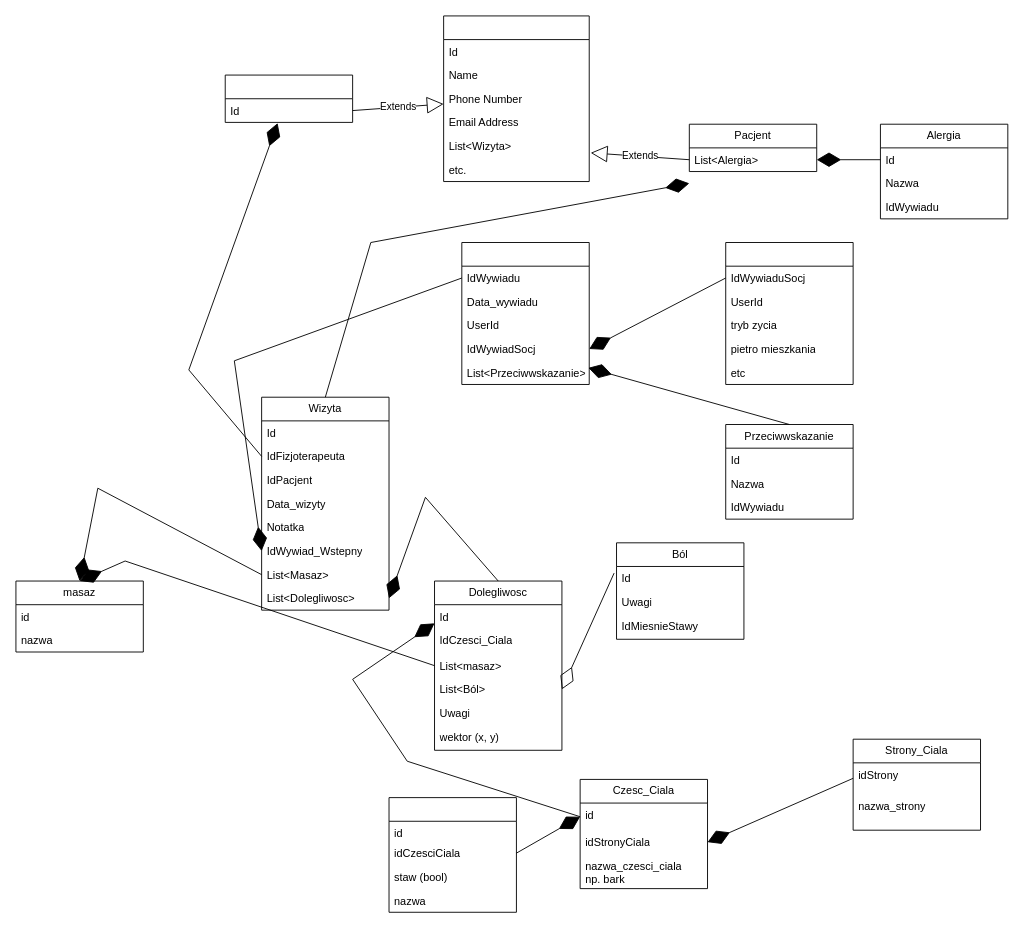
Image size: 1024x931. Some labels were removed from this diagram. The shapes that lost their labels are listed below. From the top down, each one's box as (x1, y1, x2, y2) in pixels, then its label:
(224, 74, 353, 122): fizjoterapeuta
(443, 15, 589, 182): Osoba
(461, 242, 589, 384): Wywiad_Wstepny
(725, 242, 853, 384): Wywiad_Socjalny
(388, 797, 516, 912): miesnieStawy
